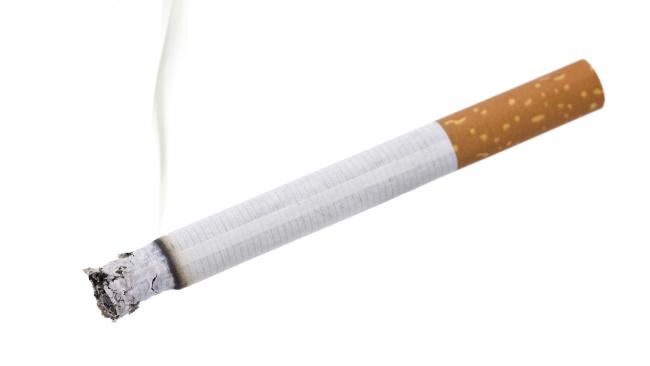cigarette: (66, 55, 610, 328)
